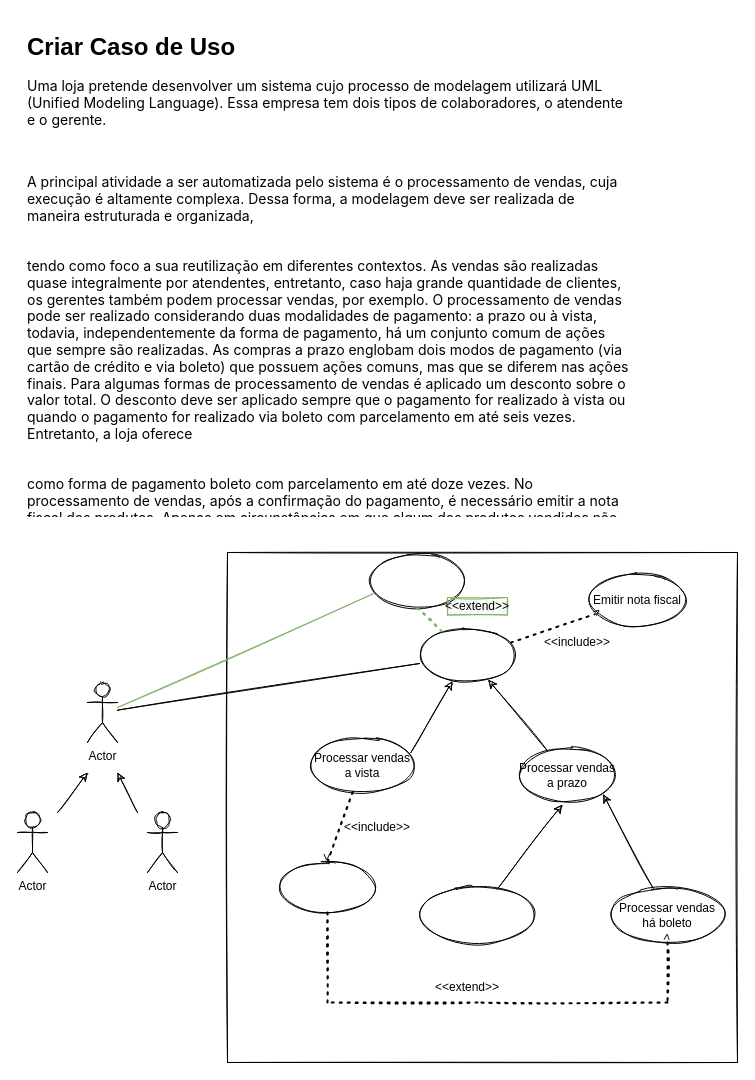
The diagram is 755 pixels wide and 1080 high, and some of its shapes have lost their labels. Each missing label, with the centre of its shape:
Calcular desconto: point 327,887
Processar vendas: point 467,654
Processar vendas com cartão de crédito: point 477,914
Solicitar Entrega: point 417,580
